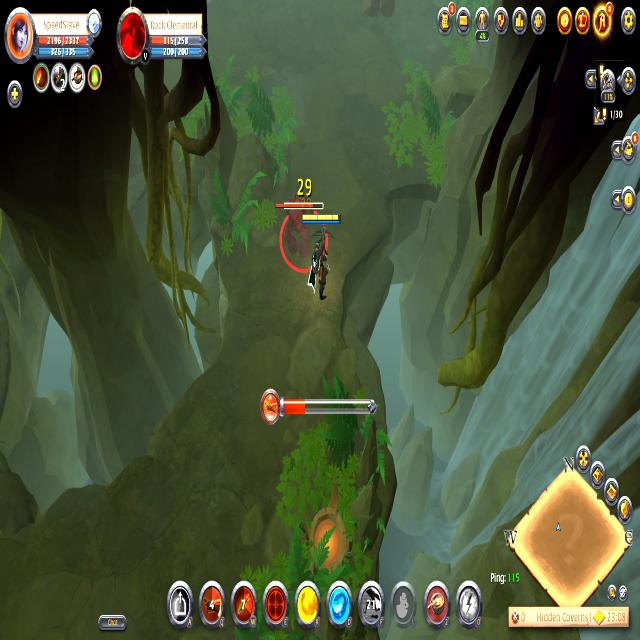ore: (272, 193, 327, 266)
red: (297, 210, 342, 308)
